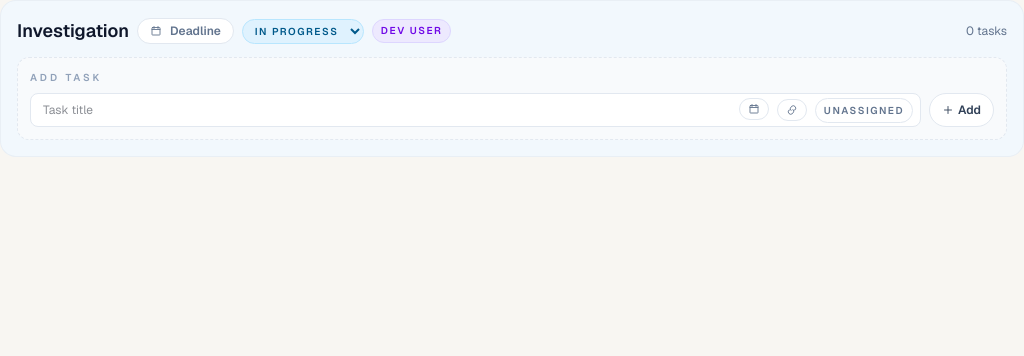
Test: PhaseBoard › shifts date popovers to stay within the viewport
Click the button "Deadline" at x=185, y=31, box [137,18,234,44]
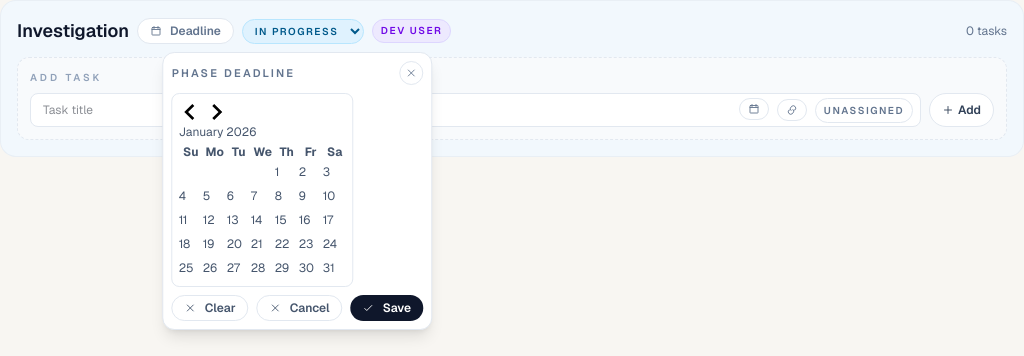
Check: the element that starts with "Phase deadline" is shown, box [163,52,432,330]
